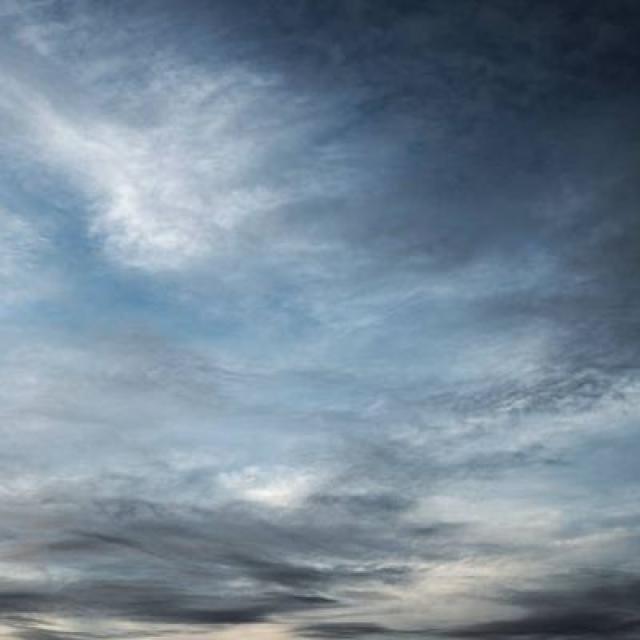As: (7, 19, 640, 571)
